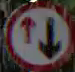Two way: (4, 3, 74, 71)
